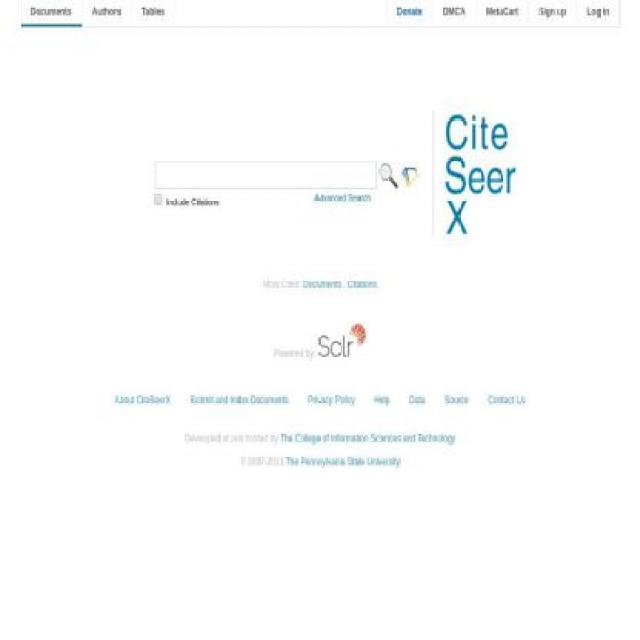button: (21, 0, 82, 22), (474, 0, 528, 22), (81, 0, 132, 22), (385, 0, 433, 22), (529, 0, 576, 22), (131, 0, 175, 22), (432, 0, 476, 22), (576, 0, 619, 22), (314, 191, 372, 204)
field: (155, 160, 377, 189), (378, 162, 399, 190), (401, 162, 421, 190), (154, 193, 163, 204)
